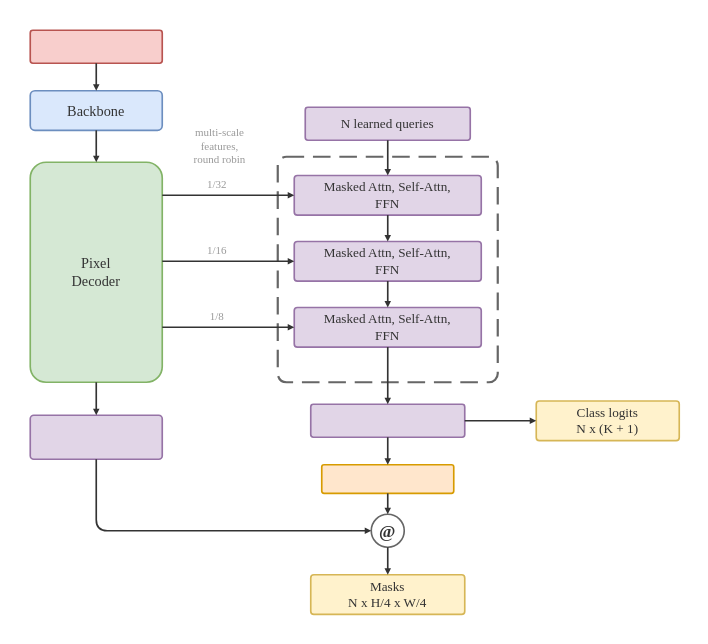
Image size: 708x644. Some labels were removed from this diagram. The box of each missing label's shape, as (x1, y1, x2, y2) in pixels:
Image: (29, 29, 163, 64)
MLP: (320, 463, 454, 494)
Per-pixel Embeddings (1/4): (29, 414, 163, 460)
Query Embeddings: (309, 403, 465, 438)
× L / 3: (276, 155, 498, 383)
